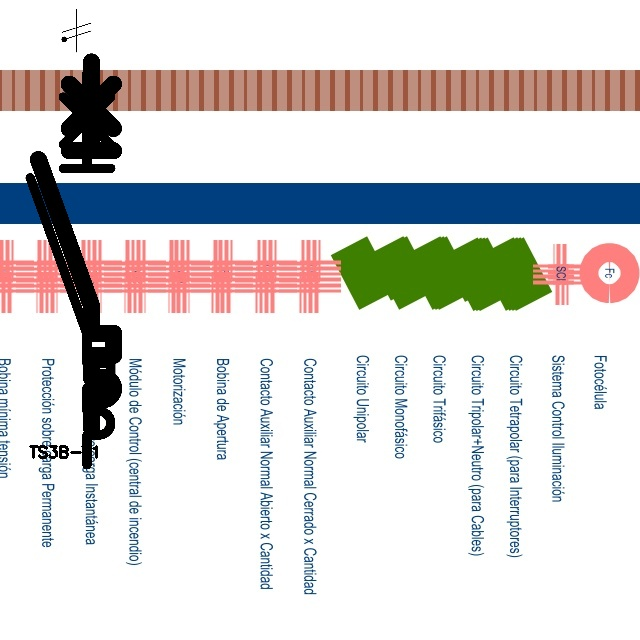interruptor_termomagnetico: (20, 63, 121, 475), (29, 52, 123, 437)
